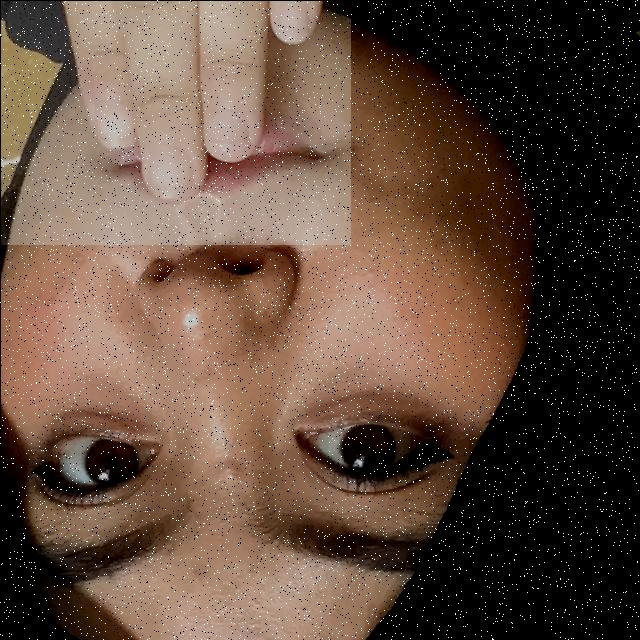ganteng: (0, 0, 350, 244)
